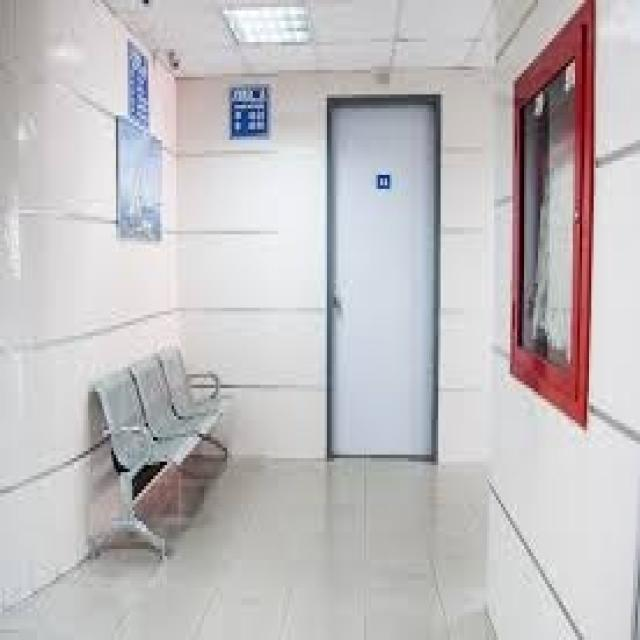door: (327, 96, 438, 460)
